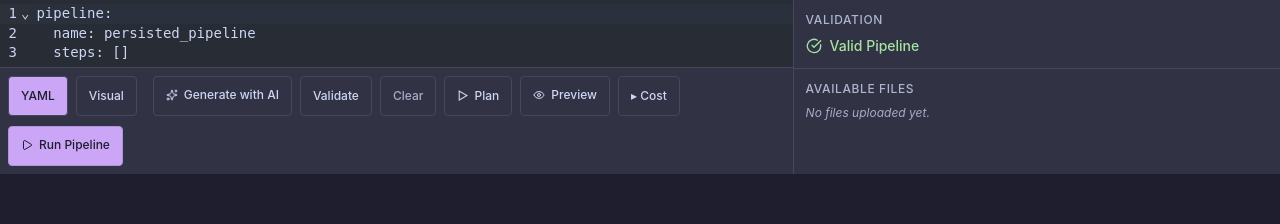
PipelineEditorWidget YAML sync › shows structured schema mismatch errors from the run endpoint
Click the button with test id "run-pipeline-btn": [65, 146] box [8, 126, 123, 166]
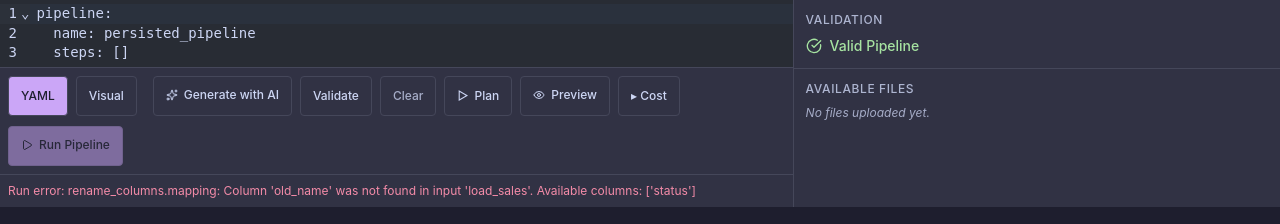
Expected: the text with test id "run-pipeline-error" shows "rename_columns.mapping: Column 'old_name' was not found", [68, 183, 696, 198]
